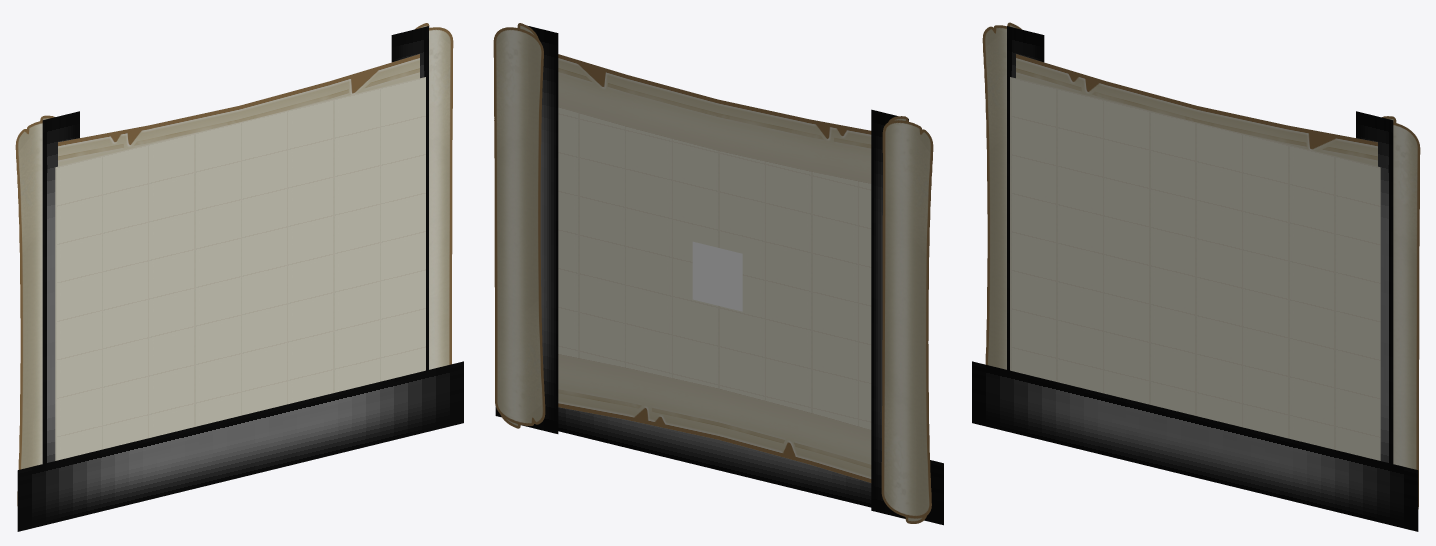
The model's file is IslandMapPopup.fbx.
3 renders of one model, left to right at view 1: azimuth 30°, elevation 25°; view 2: azimuth 150°, elevation 25°; view 3: azimuth 330°, elevation 25°, orthographic.
Visible parts, largest first — view 1: Grid, bottom_shadow, right_scroller, left_scroller, top_bottom_map, right_shadow, left_shadow; view 2: Grid, top_bottom_map, right_scroller, left_scroller, bottom_shadow, left_shadow, right_shadow, My Pirate Avatar; view 3: Grid, bottom_shadow, left_scroller, top_bottom_map, right_scroller, left_shadow, right_shadow.
Boxes of the visible parts, left/top/right/bottom form: Grid: left=55, top=77, right=425, bottom=460; bottom_shadow: left=17, top=361, right=463, bottom=531; right_scroller: left=15, top=115, right=55, bottom=505; left_scroller: left=415, top=23, right=453, bottom=369; top_bottom_map: left=58, top=54, right=419, bottom=166; right_shadow: left=42, top=111, right=79, bottom=463; left_shadow: left=391, top=26, right=428, bottom=370; Grid: left=558, top=107, right=871, bottom=429; top_bottom_map: left=558, top=54, right=871, bottom=482; right_scroller: left=881, top=116, right=933, bottom=523; left_scroller: left=493, top=23, right=545, bottom=428; bottom_shadow: left=495, top=407, right=943, bottom=525; left_shadow: left=521, top=25, right=558, bottom=433; right_shadow: left=871, top=109, right=908, bottom=518; My Pirate Avatar: left=692, top=241, right=742, bottom=311; Grid: left=1010, top=77, right=1380, bottom=460; bottom_shadow: left=972, top=361, right=1418, bottom=531; left_scroller: left=1382, top=116, right=1420, bottom=508; top_bottom_map: left=1016, top=54, right=1377, bottom=166; right_scroller: left=982, top=22, right=1021, bottom=369; left_shadow: left=1356, top=111, right=1393, bottom=463; right_shadow: left=1007, top=26, right=1044, bottom=370.
Bounding box in the file's own units: 2913 × 2545 × 70.75.
